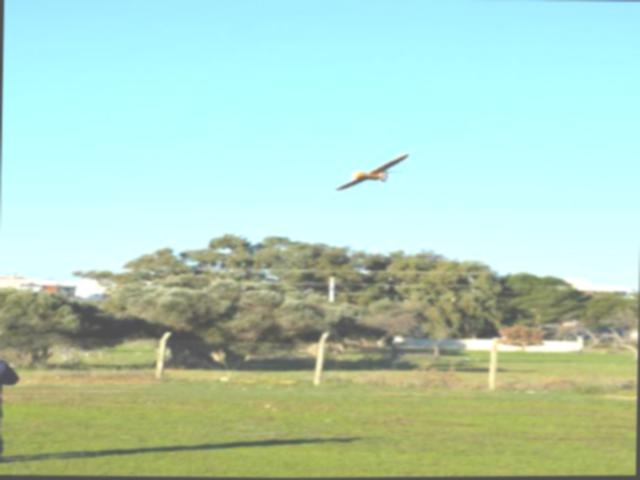iha: (336, 154, 411, 191)
